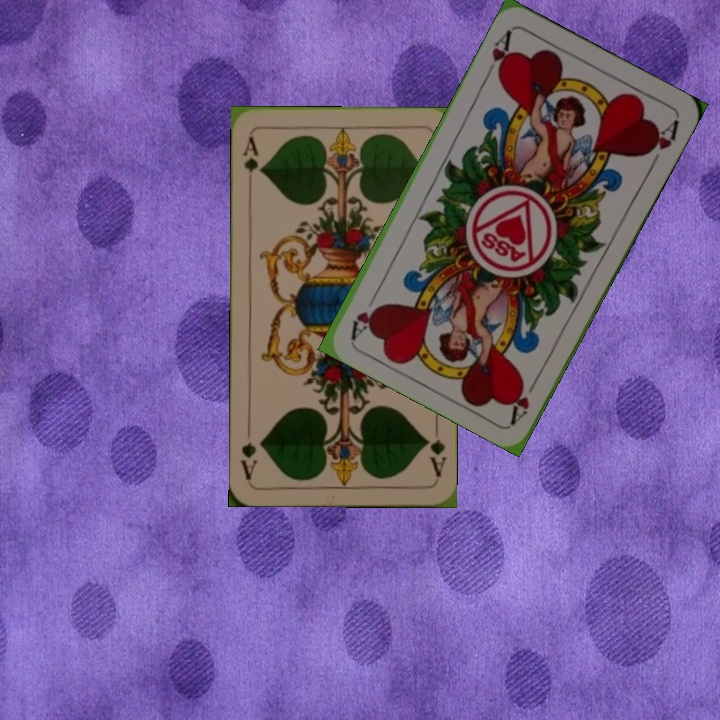GA: (422, 422, 449, 480), (238, 133, 264, 190)
HA: (506, 370, 542, 425), (481, 26, 515, 81)
